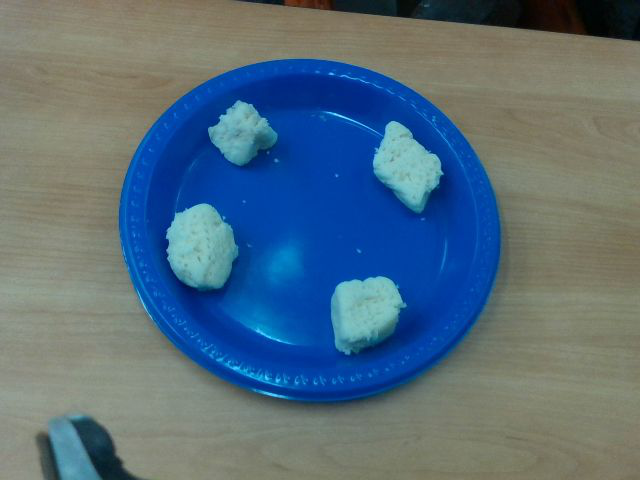mashed_potato: (373, 121, 442, 212), (166, 203, 237, 288), (330, 276, 404, 353), (209, 100, 277, 165)
